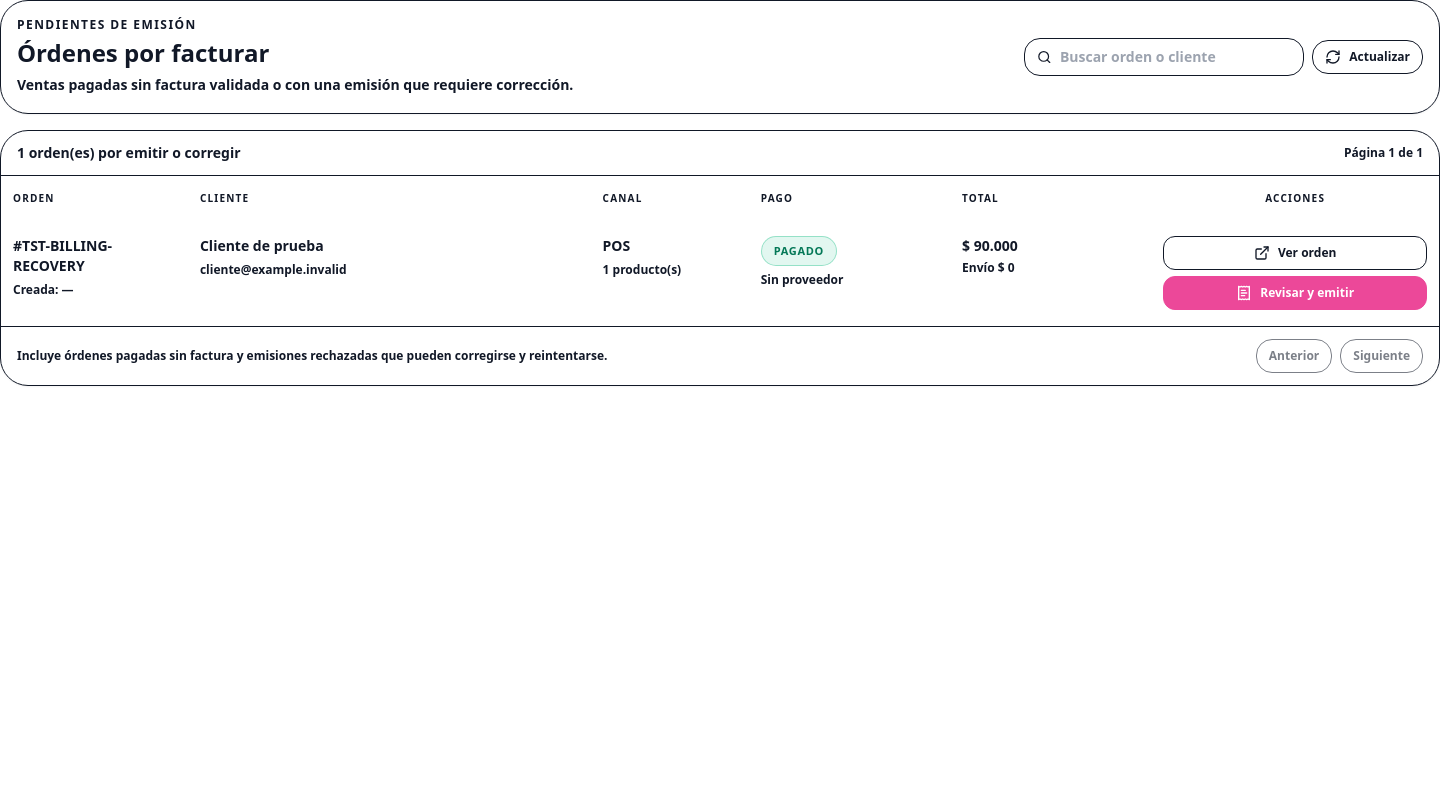
Test: BillingPendingOrdersPanel › recupera una factura validada si la conexión vence después de crearla
Click the button "Revisar y emitir" at {"x": 1295, "y": 293}, box [1163,276,1427,310]
(page scrolled)
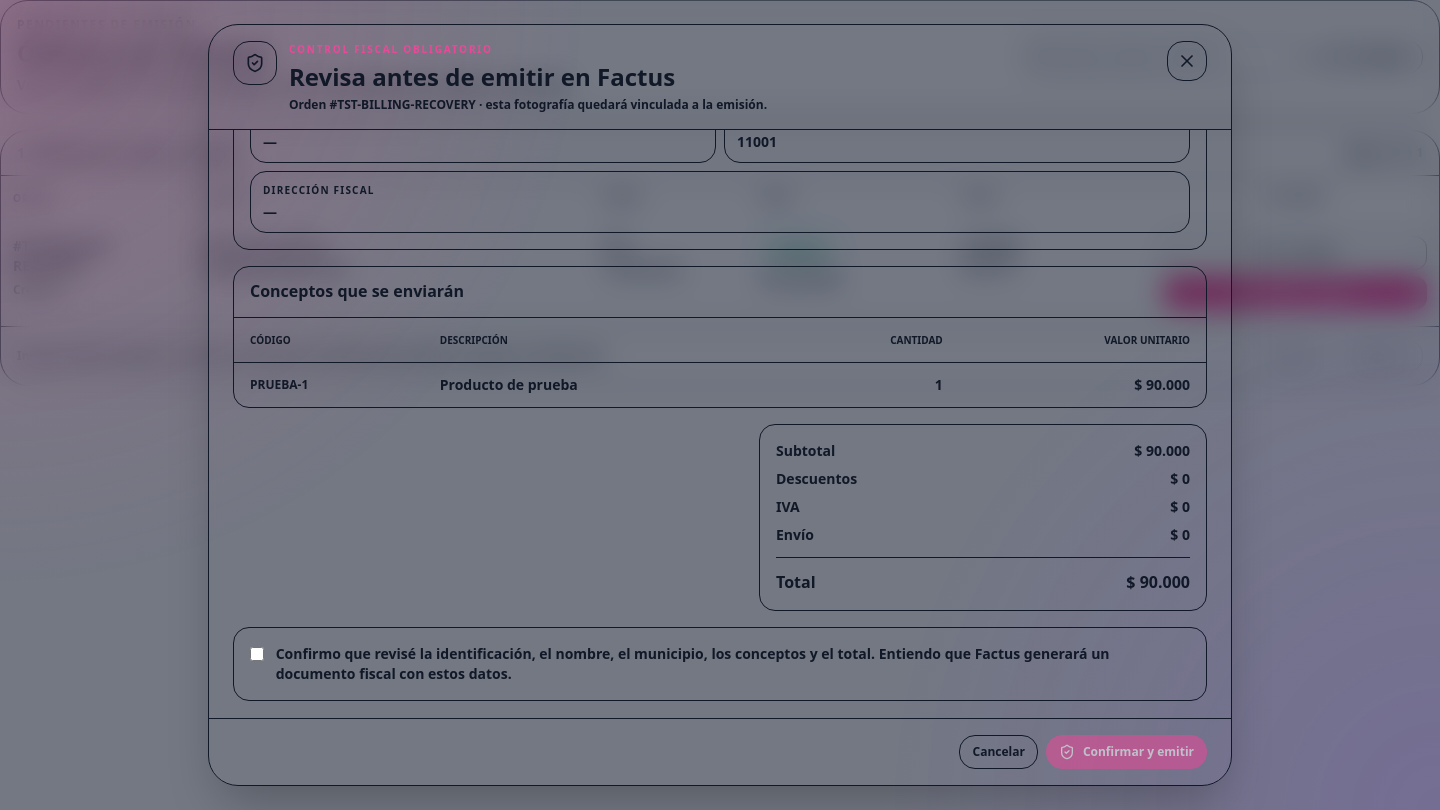
Click the checkbox at {"x": 257, "y": 654}, box [250,646,264,662]
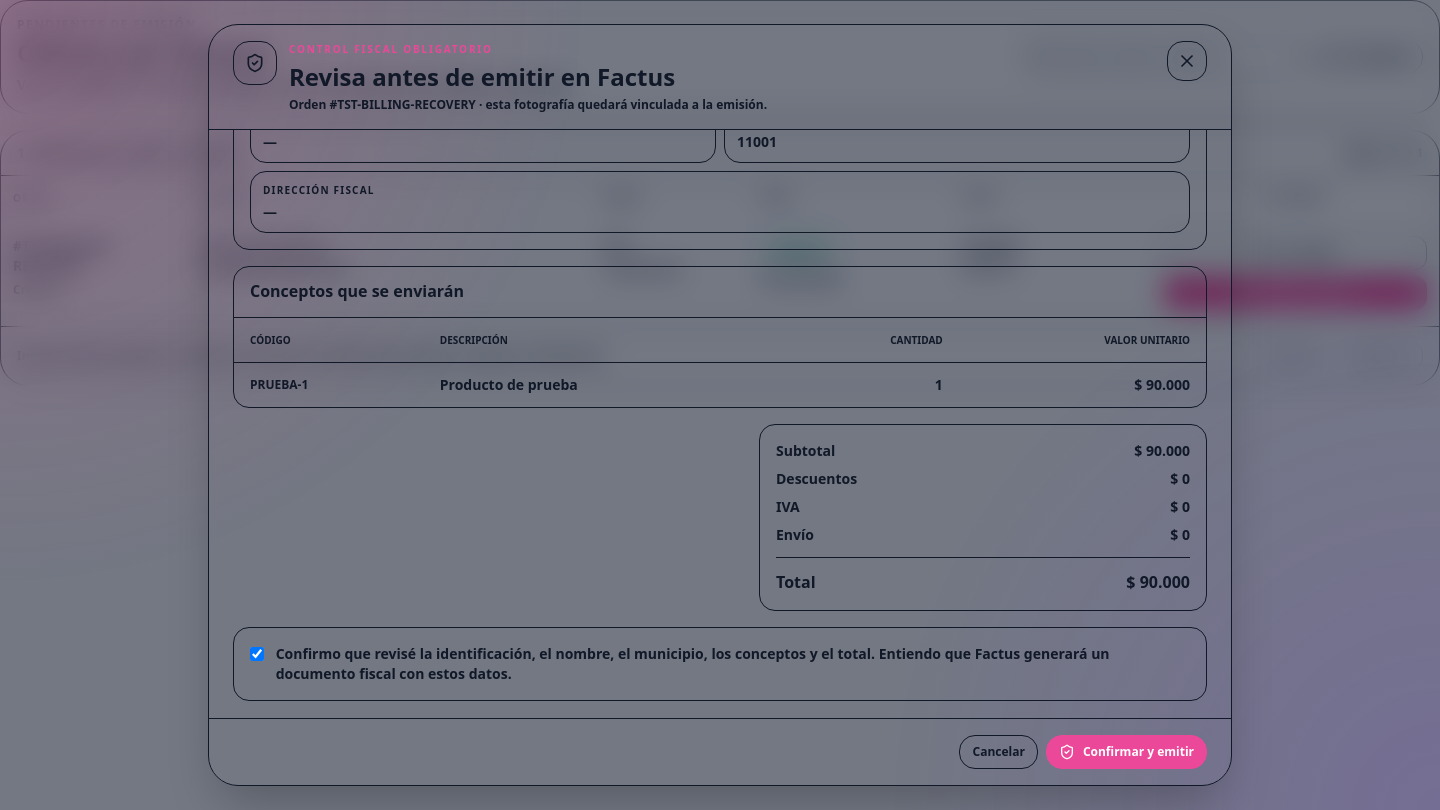
Click the button "Confirmar y emitir" at {"x": 1126, "y": 752}, box [1046,735,1207,769]
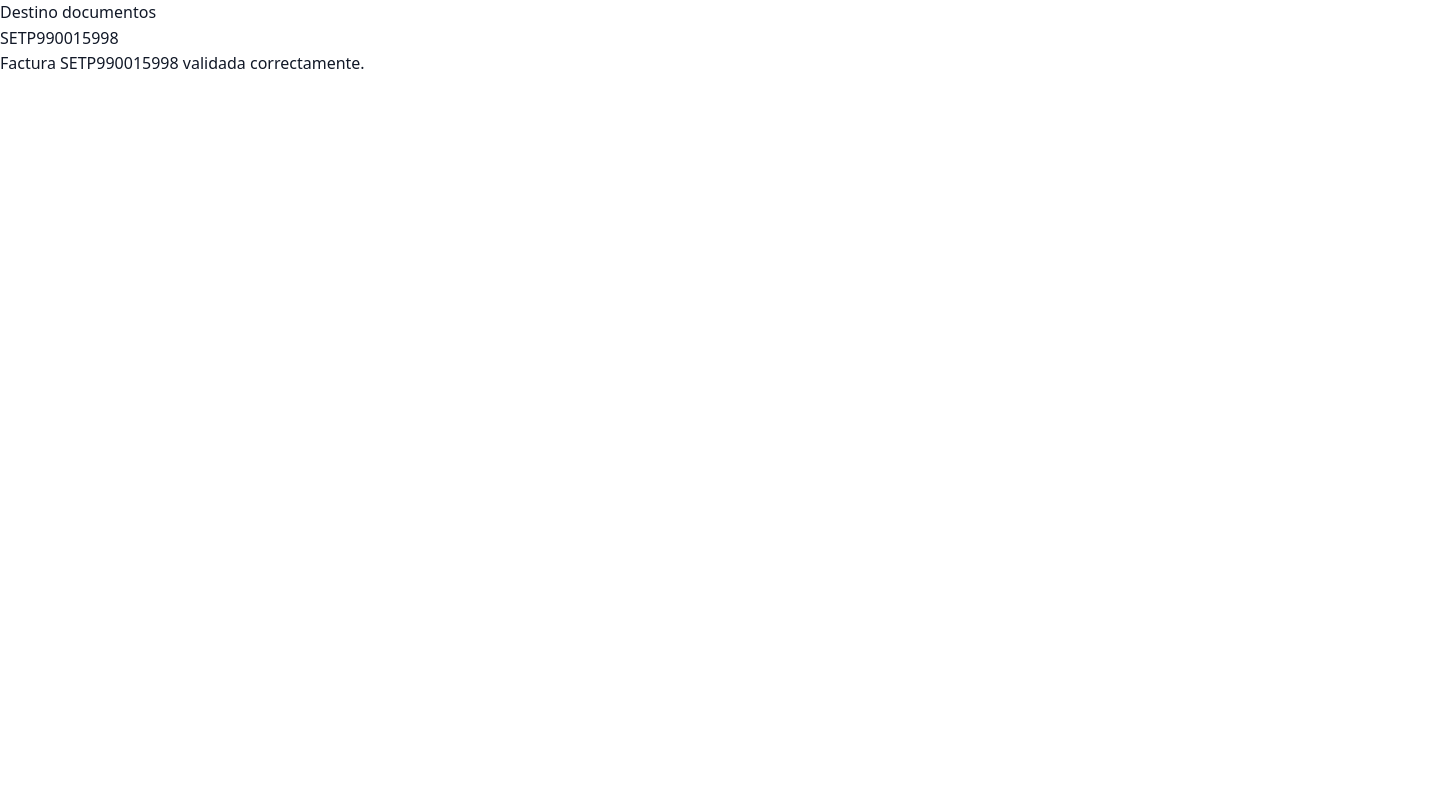
Expected: the text "Destino documentos" is shown, [0,1,156,23]
Expected: the text "SETP990015998" is shown, [0,27,119,49]
Expected: the text "Factura SETP990015998 validada correctamente." is shown, [0,52,365,74]
